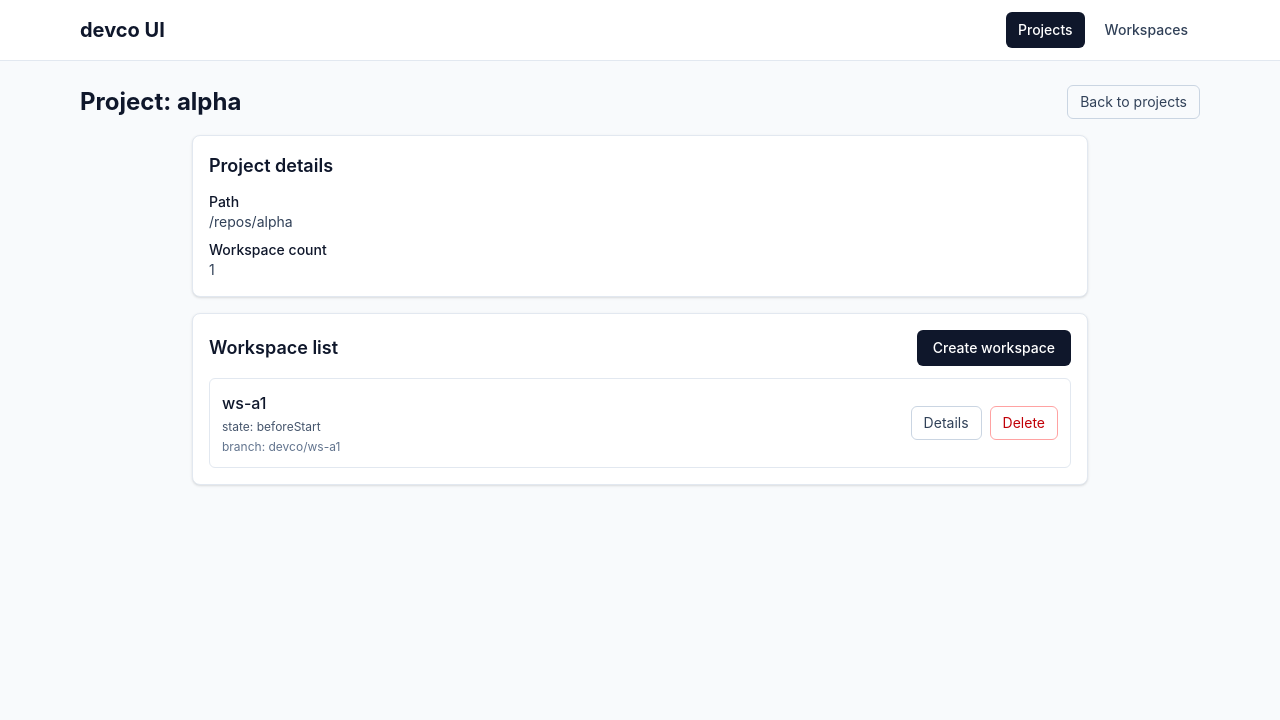
Scenario: App browser flows › opens create workspace with modal popup
Check: the heading "Project: alpha" is shown, box [80, 86, 241, 118]
Click the button "Create workspace" at (994, 348), box [917, 330, 1071, 366]
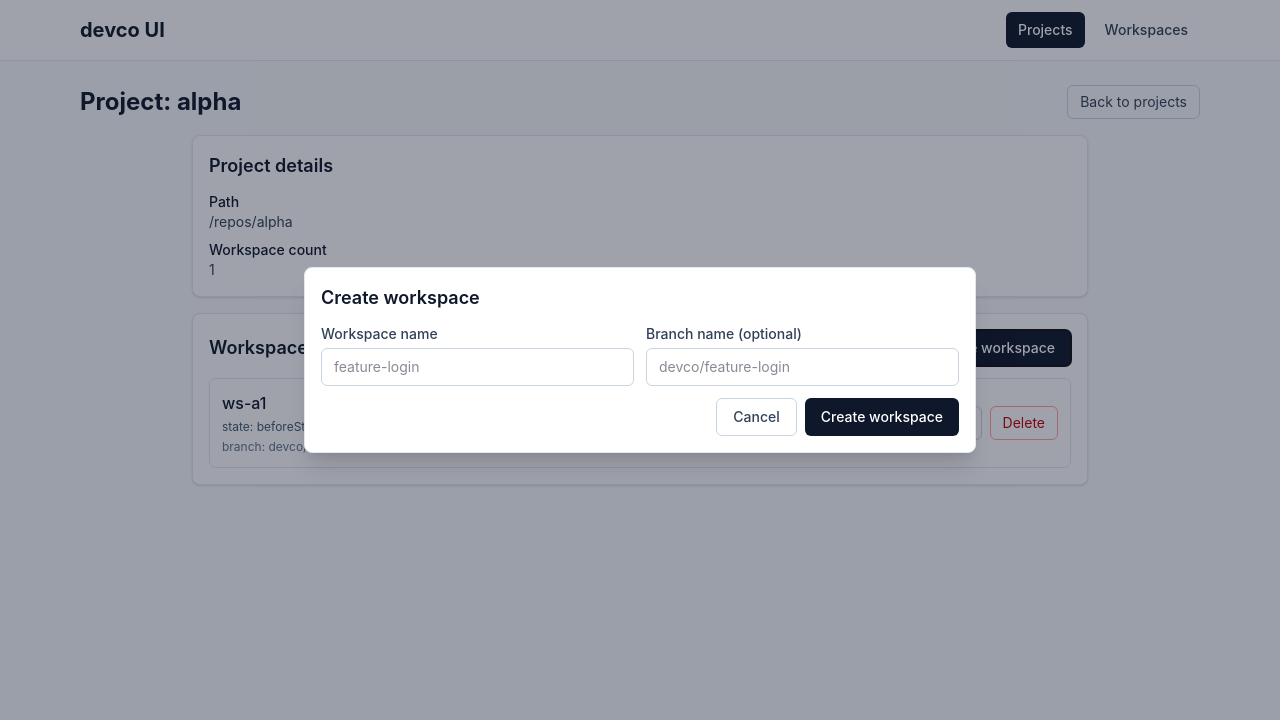
Check: the button "Cancel" is shown, box [716, 398, 797, 436]
